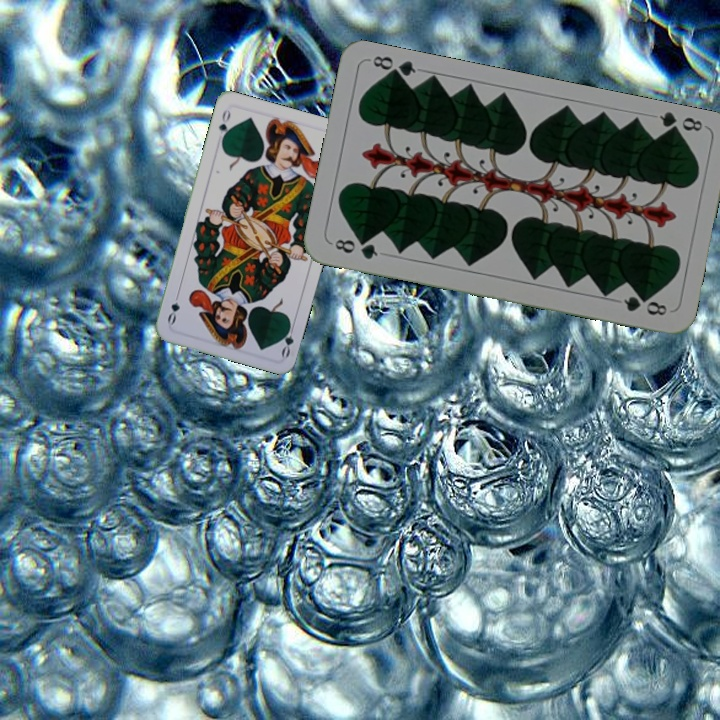G8: (655, 108, 705, 140), (330, 235, 381, 262)
GO: (277, 319, 297, 360), (214, 105, 233, 146)
